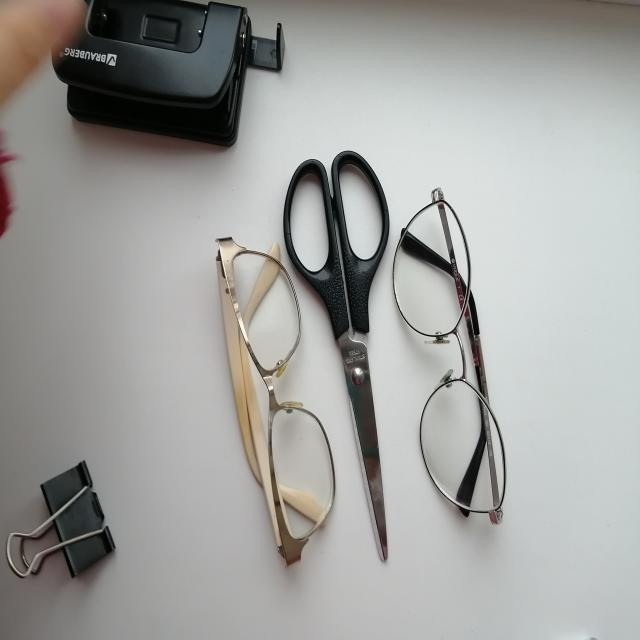tesoura: (266, 128, 407, 576)
